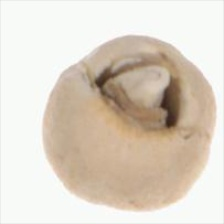L3: (89, 52, 186, 135)
L4: (43, 35, 218, 211)
